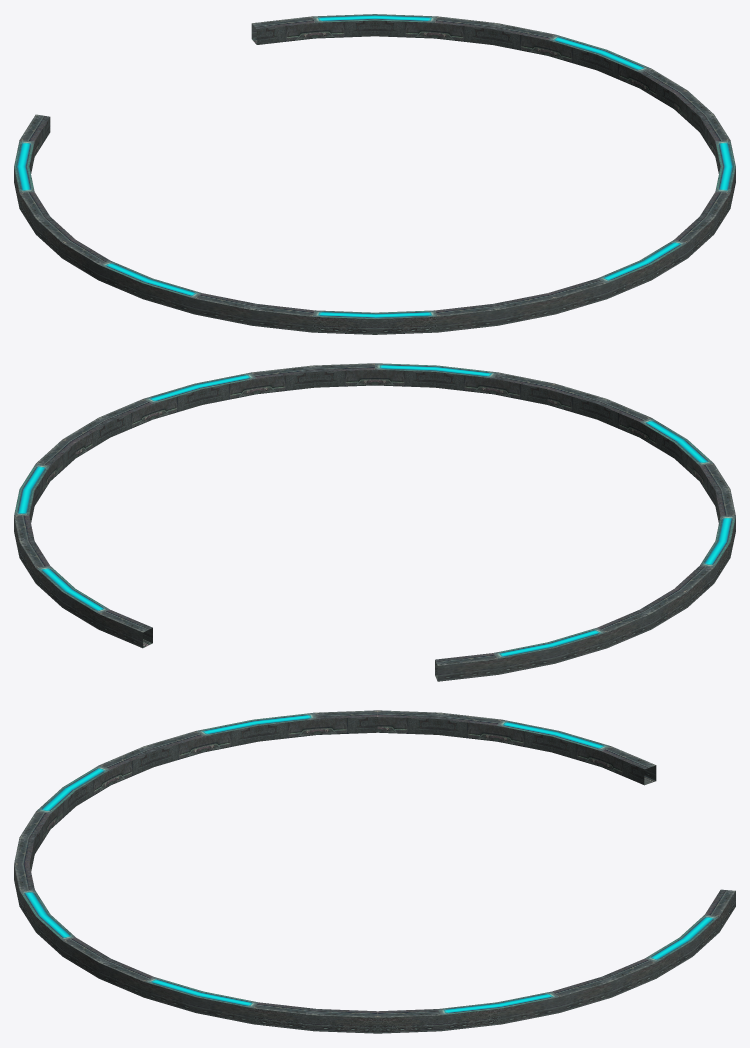
Rendered from S_Build_Jidi090.FBX.
3 views of the same model, one above another, from view 1: azimuth 30°, elevation 25°; view 2: azimuth 150°, elevation 25°; view 3: azimuth 270°, elevation 25° (orthographic).
Visible parts, largest first — view 1: S_Build_Jidi090; view 2: S_Build_Jidi090; view 3: S_Build_Jidi090.
Part boxes in pixels (<box>): S_Build_Jidi090: <box>14,14,735,334</box>; S_Build_Jidi090: <box>14,363,735,681</box>; S_Build_Jidi090: <box>14,710,735,1033</box>.
Bounding box in the file's own units: 6236 × 150 × 6189.
Materials: 1 (1 with a texture image).
